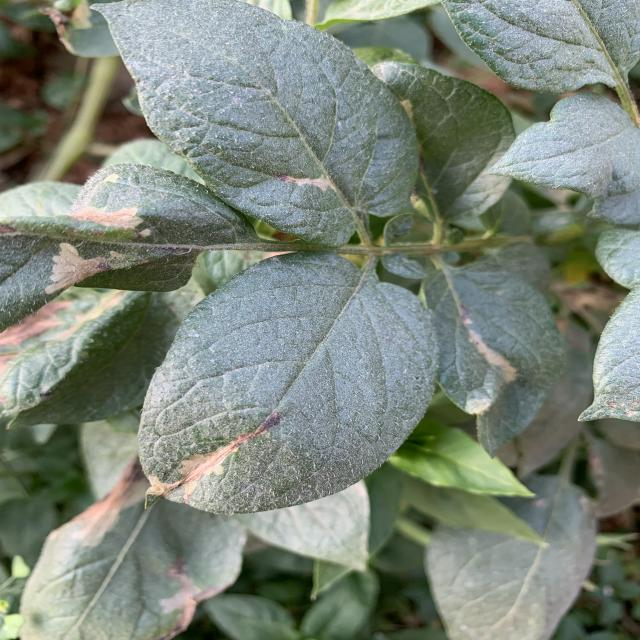lateblight: (148, 412, 280, 508), (72, 464, 150, 535), (168, 555, 227, 616), (45, 242, 112, 294), (277, 174, 332, 191), (158, 594, 182, 614)
